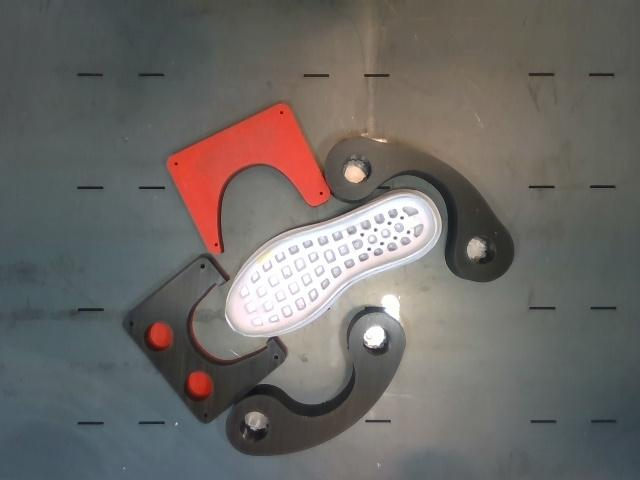shoes: (226, 195, 435, 335)
